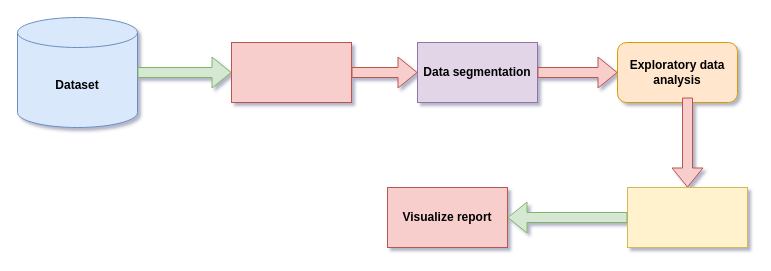
Image size: 771x271. Some labels were removed from this diagram. Each missing label, with the centre of its shape:
Data preprocessing: (291,72)
Models and algorithm's: (687,217)
